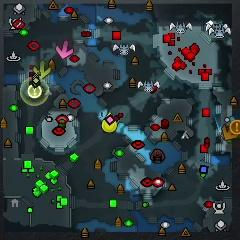Other: (28, 84, 42, 99), (230, 120, 240, 135)
p4: (102, 112, 117, 133)
x1: (56, 40, 73, 59)
x2: (34, 61, 51, 79)
x5: (222, 124, 237, 140)
